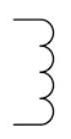inductor: (4, 11, 59, 126)
